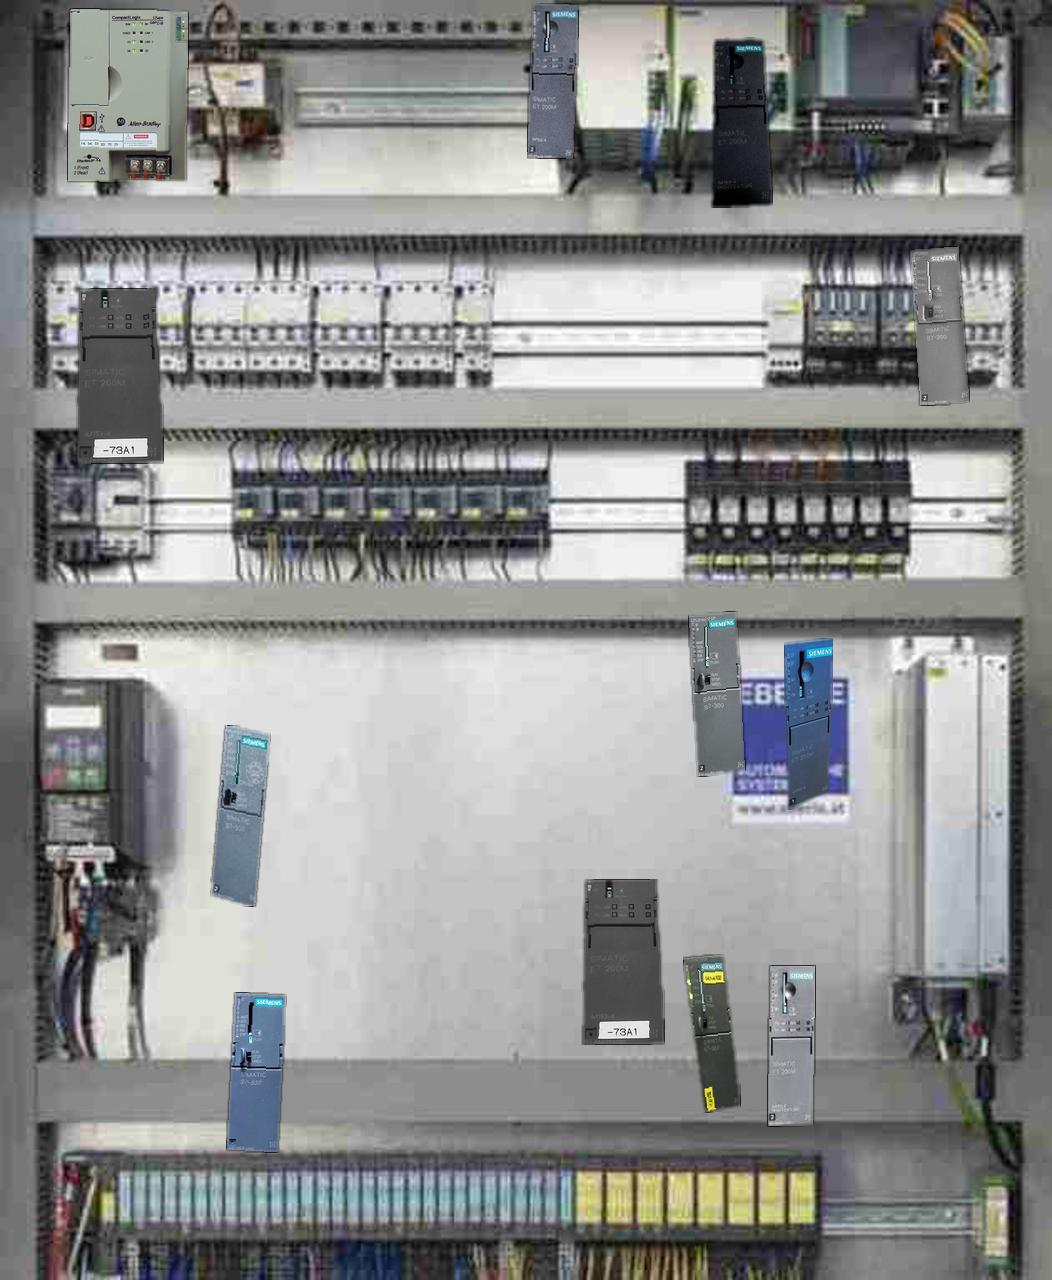AllenBradley: (68, 9, 187, 181)
Siemens: (213, 725, 268, 906), (911, 246, 968, 404), (689, 612, 744, 775), (227, 993, 284, 1151), (683, 956, 739, 1111)
